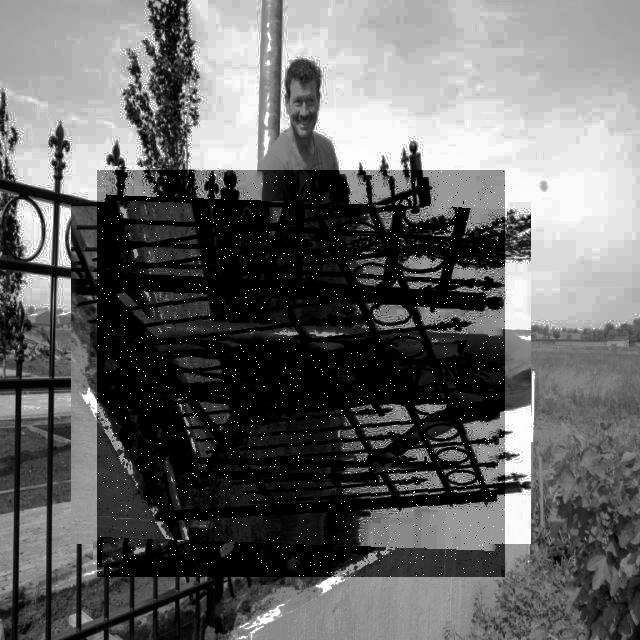anomaly-fence: (97, 170, 505, 577)
